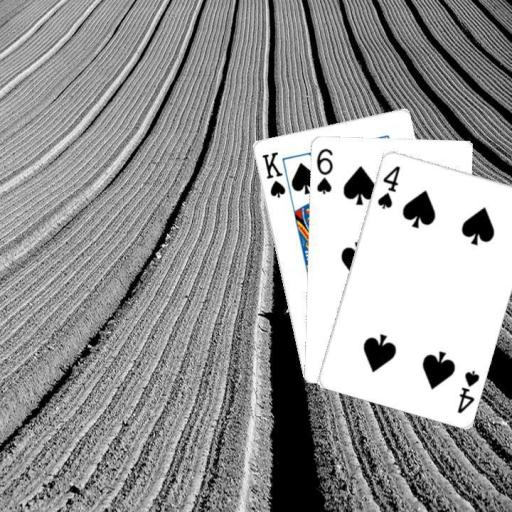card-corner: (258, 148, 287, 199), (374, 162, 401, 210), (454, 367, 480, 415), (313, 145, 334, 196)
